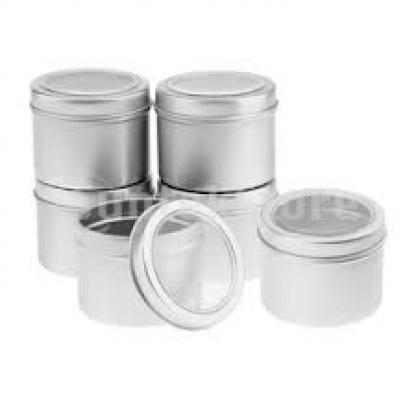METAL: (253, 186, 383, 322), (74, 194, 200, 326), (128, 198, 242, 331), (28, 66, 152, 188), (152, 72, 276, 191), (35, 178, 152, 278), (156, 179, 276, 274)
